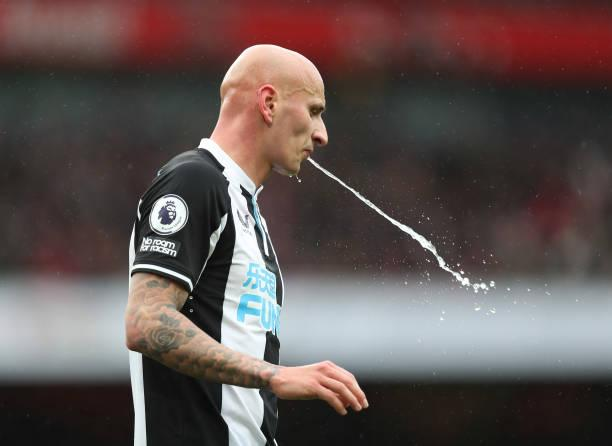Spitting: (204, 26, 371, 202)
